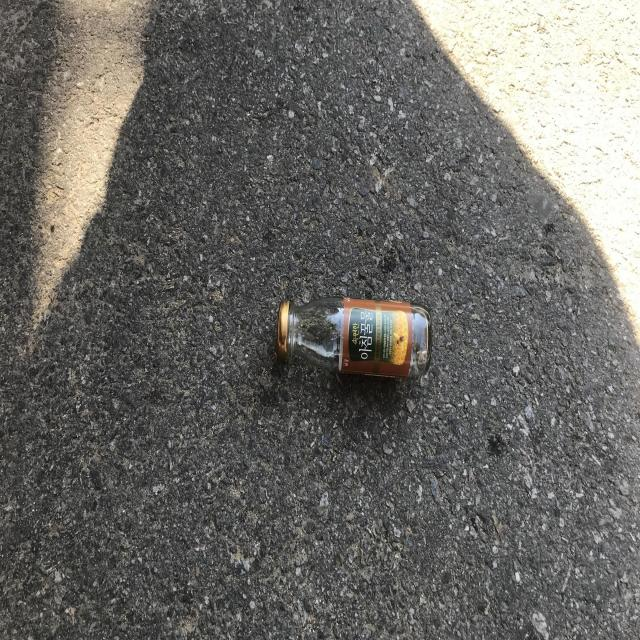glass: (277, 297, 432, 378)
